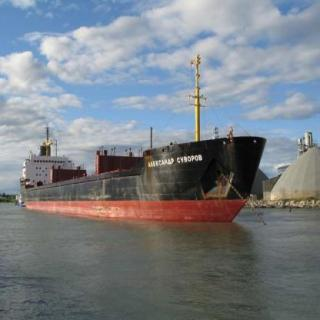Bulk Carrier: (22, 110, 266, 223)
